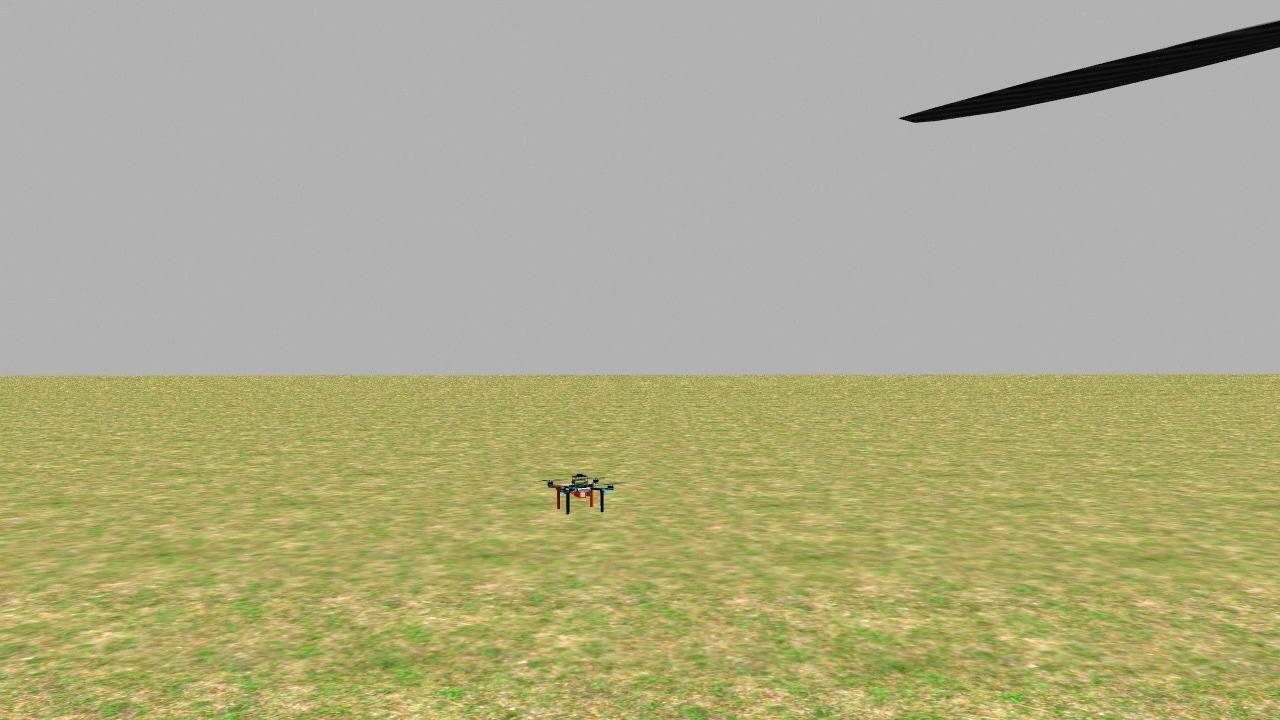UAV: (538, 459, 623, 528)
